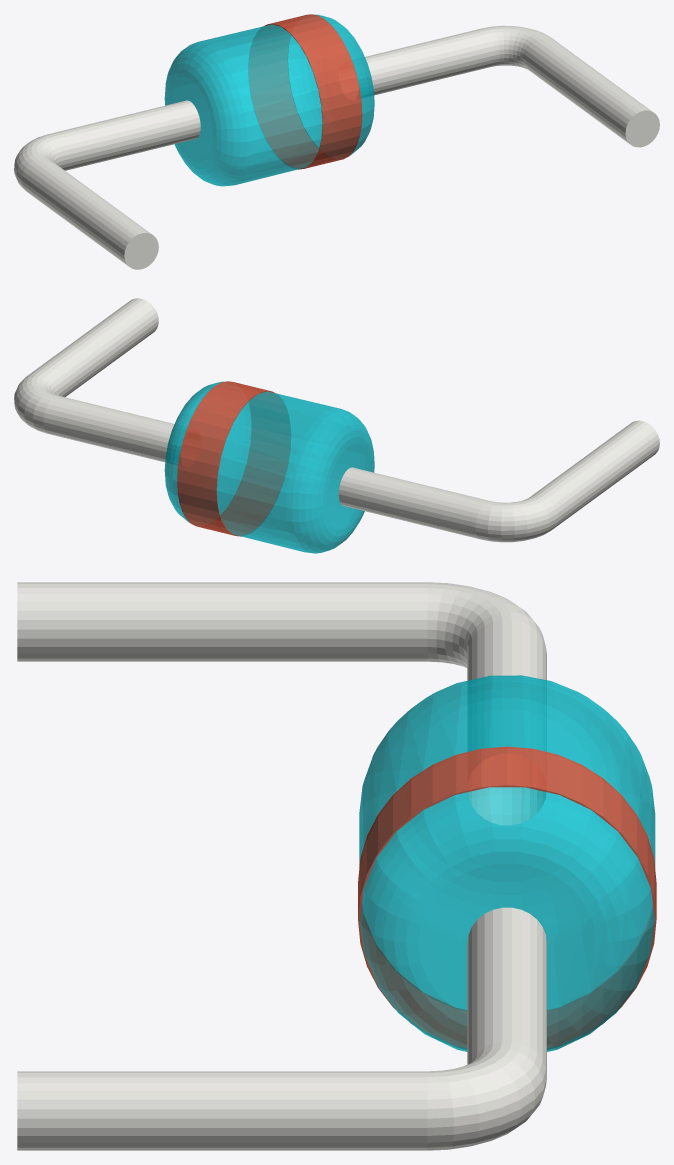
File: D_T-1_P10.16mm_Horizontal.glb
3 renders of one model, top to bottom at view 1: azimuth 30°, elevation 25°; view 2: azimuth 150°, elevation 25°; view 3: azimuth 270°, elevation 25°, orthographic. The views are drawn at different scales.
Parts seen in each view (by area): view 1: Shape_IndexedFaceSet.004, Shape_IndexedFaceSet, Shape_IndexedFaceSet.006, Shape_IndexedFaceSet.010, Shape_IndexedFaceSet.007, Shape_IndexedFaceSet.011, Shape_IndexedFaceSet.014, Shape_IndexedFaceSet.003, Shape_IndexedFaceSet.008, Shape_IndexedFaceSet.009, Shape_IndexedFaceSet.012, Shape_IndexedFaceSet.013 (+2 smaller); view 2: Shape_IndexedFaceSet.004, Shape_IndexedFaceSet, Shape_IndexedFaceSet.006, Shape_IndexedFaceSet.010, Shape_IndexedFaceSet.007, Shape_IndexedFaceSet.014, Shape_IndexedFaceSet.011, Shape_IndexedFaceSet.003, Shape_IndexedFaceSet.012, Shape_IndexedFaceSet.008, Shape_IndexedFaceSet.009, Shape_IndexedFaceSet.005; view 3: Shape_IndexedFaceSet.003, Shape_IndexedFaceSet.006, Shape_IndexedFaceSet.004, Shape_IndexedFaceSet.011, Shape_IndexedFaceSet.014, Shape_IndexedFaceSet, Shape_IndexedFaceSet.005, Shape_IndexedFaceSet.008, Shape_IndexedFaceSet.010, Shape_IndexedFaceSet.007, Shape_IndexedFaceSet.009, Shape_IndexedFaceSet.012 (+1 smaller).
Part boxes in pixels (x1,y1,x2,y2): Shape_IndexedFaceSet.004: (179,24,322,185); Shape_IndexedFaceSet: (249,14,362,168); Shape_IndexedFaceSet.006: (164,41,253,186); Shape_IndexedFaceSet.010: (50,100,200,170); Shape_IndexedFaceSet.007: (352,28,495,97); Shape_IndexedFaceSet.011: (523,35,651,143); Shape_IndexedFaceSet.014: (22,158,150,265); Shape_IndexedFaceSet.003: (288,14,374,155); Shape_IndexedFaceSet.008: (168,76,212,162); Shape_IndexedFaceSet.009: (483,25,549,69); Shape_IndexedFaceSet.012: (14,134,63,189); Shape_IndexedFaceSet.013: (625,110,659,147); Shape_IndexedFaceSet.004: (217,391,359,552); Shape_IndexedFaceSet: (177,381,290,535); Shape_IndexedFaceSet.006: (286,408,374,553); Shape_IndexedFaceSet.010: (338,467,489,539); Shape_IndexedFaceSet.007: (43,395,186,464); Shape_IndexedFaceSet.014: (530,420,659,528); Shape_IndexedFaceSet.011: (29,298,158,396); Shape_IndexedFaceSet.003: (164,381,250,522); Shape_IndexedFaceSet.012: (475,495,557,542); Shape_IndexedFaceSet.008: (326,443,370,529); Shape_IndexedFaceSet.009: (14,373,56,433); Shape_IndexedFaceSet.005: (169,405,197,488); Shape_IndexedFaceSet.003: (359,787,654,1051); Shape_IndexedFaceSet.006: (359,675,654,942); Shape_IndexedFaceSet.004: (359,681,655,1009); Shape_IndexedFaceSet.011: (17,1071,427,1150); Shape_IndexedFaceSet.014: (17,582,427,661); Shape_IndexedFaceSet: (358,746,656,1048); Shape_IndexedFaceSet.005: (418,863,595,1014); Shape_IndexedFaceSet.008: (421,710,593,868); Shape_IndexedFaceSet.010: (467,619,546,824); Shape_IndexedFaceSet.007: (467,907,546,1074); Shape_IndexedFaceSet.009: (427,1041,546,1150); Shape_IndexedFaceSet.012: (427,582,545,667).
Size of the model in its own units: 4.28 by 1.03 by 2.21.
